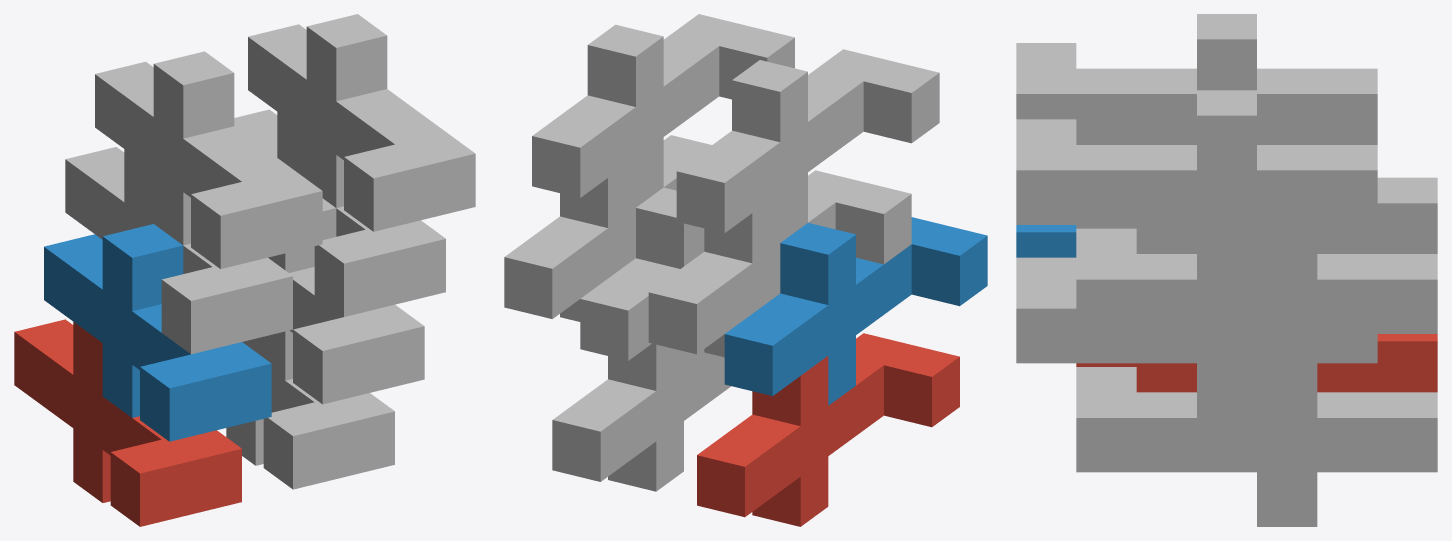
The model's file is tiling.obj.
3 views of the same model, side by side, from view 1: azimuth 30°, elevation 25°; view 2: azimuth 150°, elevation 25°; view 3: azimuth 270°, elevation 25° (orthographic). The views are drawn at different scales.
Visible parts, largest first — view 1: copy_1_domain_4, copy_1_domain_8, copy_1_domain_2, copy_1_domain_1, copy_1_domain_3, copy_1_domain_6, copy_1_domain_7, copy_1_domain_5; view 2: copy_1_domain_4, copy_1_domain_2, copy_1_domain_8, copy_1_domain_1, copy_1_domain_3, copy_1_domain_5, copy_1_domain_7, copy_1_domain_6; view 3: copy_1_domain_8, copy_1_domain_7, copy_1_domain_5, copy_1_domain_4, copy_1_domain_6, copy_1_domain_3, copy_1_domain_1, copy_1_domain_2.
Part boxes in pixels (left/top/right/bottom): copy_1_domain_4: left=95, top=51, right=322, bottom=268; copy_1_domain_8: left=248, top=14, right=475, bottom=231; copy_1_domain_2: left=44, top=224, right=271, bottom=441; copy_1_domain_1: left=14, top=319, right=241, bottom=526; copy_1_domain_3: left=65, top=147, right=292, bottom=354; copy_1_domain_6: left=255, top=198, right=424, bottom=404; copy_1_domain_7: left=234, top=109, right=445, bottom=316; copy_1_domain_5: left=226, top=338, right=394, bottom=489; copy_1_domain_4: left=676, top=49, right=939, bottom=242; copy_1_domain_2: left=724, top=217, right=987, bottom=405; copy_1_domain_8: left=532, top=14, right=794, bottom=207; copy_1_domain_1: left=697, top=333, right=959, bottom=526; copy_1_domain_3: left=648, top=170, right=911, bottom=357; copy_1_domain_5: left=552, top=343, right=731, bottom=491; copy_1_domain_7: left=504, top=135, right=711, bottom=321; copy_1_domain_6: left=580, top=187, right=707, bottom=370; copy_1_domain_8: left=1016, top=90, right=1377, bottom=279; copy_1_domain_7: left=1076, top=225, right=1437, bottom=388; copy_1_domain_5: left=1076, top=367, right=1437, bottom=526; copy_1_domain_4: left=1016, top=14, right=1377, bottom=144; copy_1_domain_6: left=1016, top=257, right=1377, bottom=417; copy_1_domain_3: left=1076, top=177, right=1437, bottom=253; copy_1_domain_1: left=1076, top=334, right=1437, bottom=392; copy_1_domain_2: left=1016, top=225, right=1076, bottom=257.
Bounding box in the file's own units: 6 × 8 × 7.
